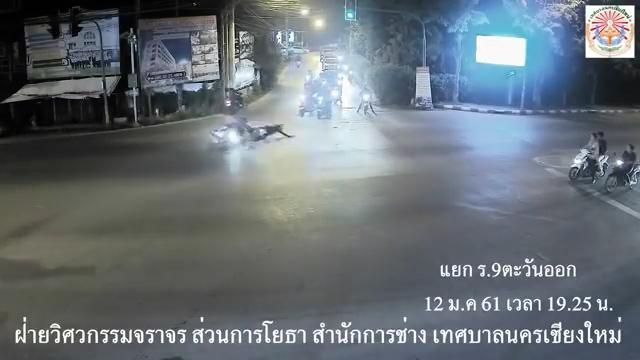accident: (248, 121, 297, 145)
